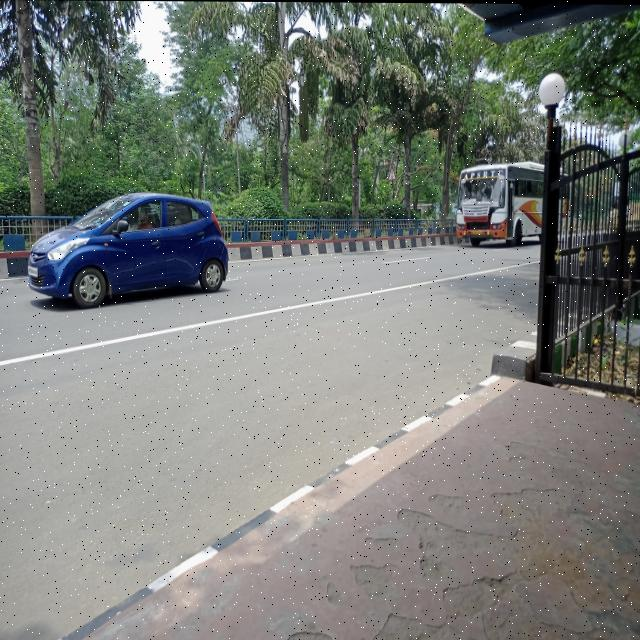bus: (454, 160, 547, 253)
car: (27, 170, 236, 309)
